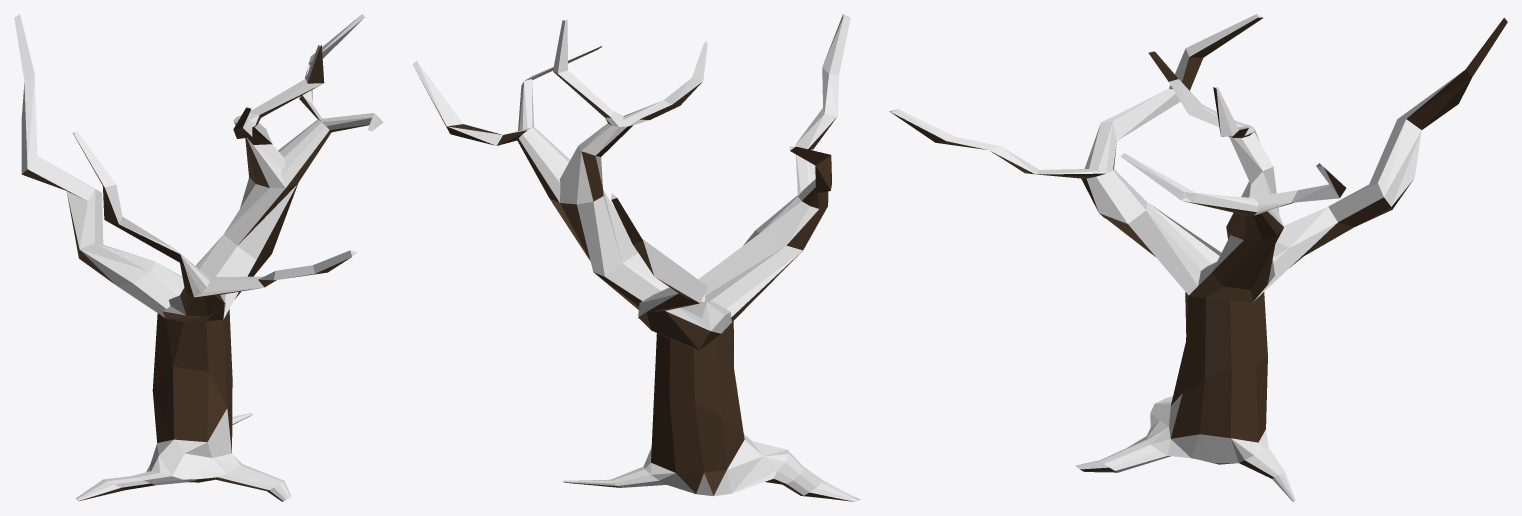
Rendered from winter tree 4.fbx.
3 views of the same model, side by side, from view 1: azimuth 30°, elevation 25°; view 2: azimuth 150°, elevation 25°; view 3: azimuth 270°, elevation 25° (orthographic). The views are drawn at different scales.
Parts seen in each view (by area): view 1: LowPoly Tree .047; view 2: LowPoly Tree .047; view 3: LowPoly Tree .047.
Part boxes in pixels (box(x1,y1,x2,y2)): LowPoly Tree .047: box(14, 14, 383, 501); LowPoly Tree .047: box(412, 14, 859, 501); LowPoly Tree .047: box(889, 14, 1507, 501).
Bounding box in the file's own units: 167 × 180 × 231.
